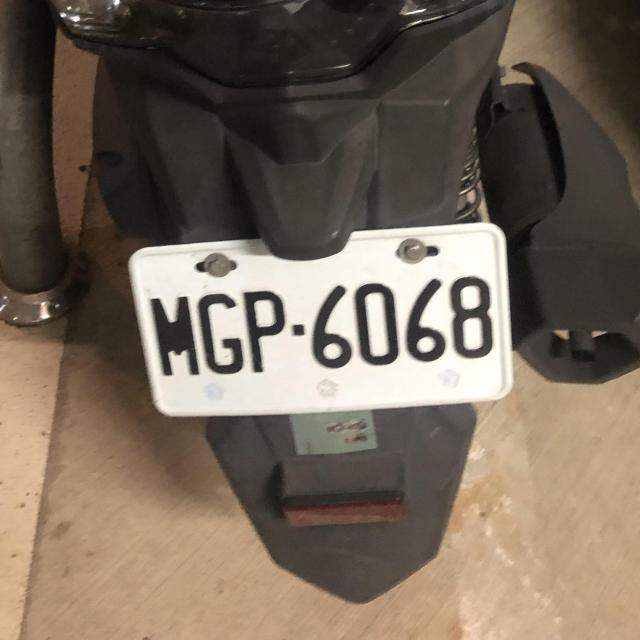W: (118, 220, 522, 434)
